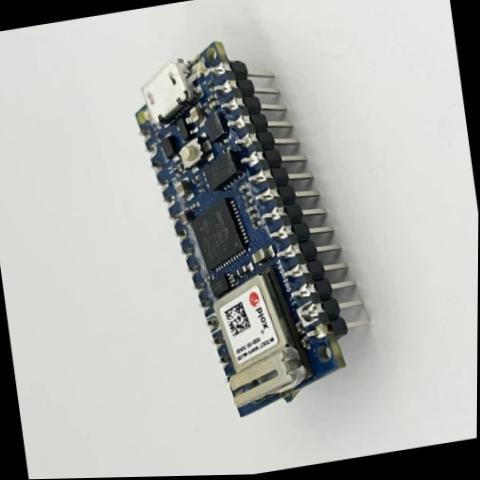Arduino-Nano: (111, 17, 390, 439)
